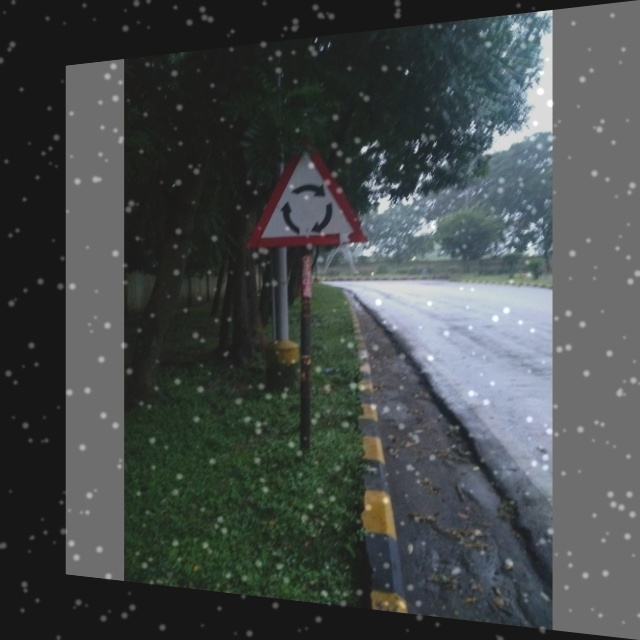Round_About: (241, 133, 370, 257)
